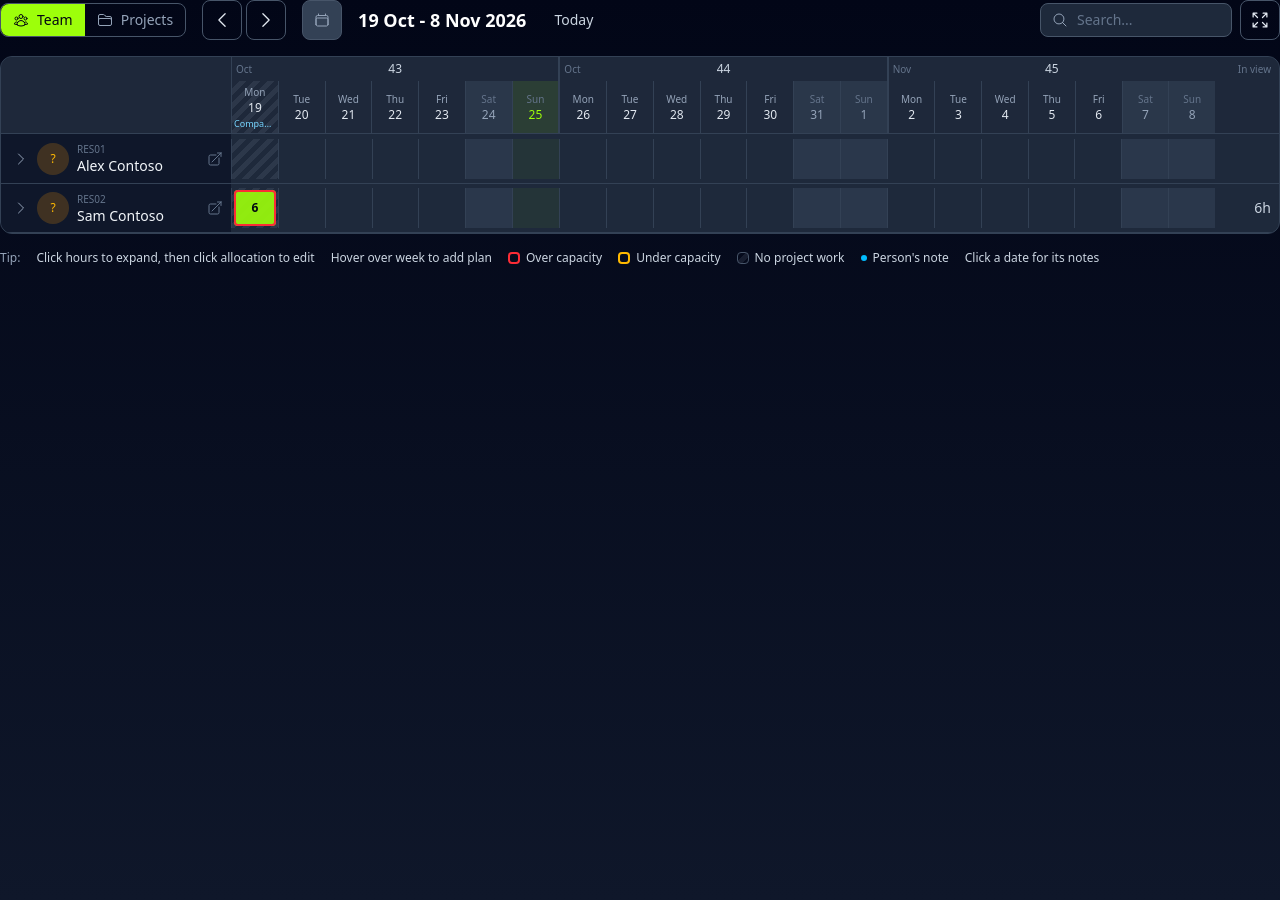
Test: PlanPanel day notes › hides the edit controls without permission to change plans
The width and height of the screenshot is (1280, 900).
Expected: the text "Company Off-Site" is shown, [232,118,278,129]
Click the button with aria-label ": 1 note, show" at (254, 107), box [231,81,278,133]
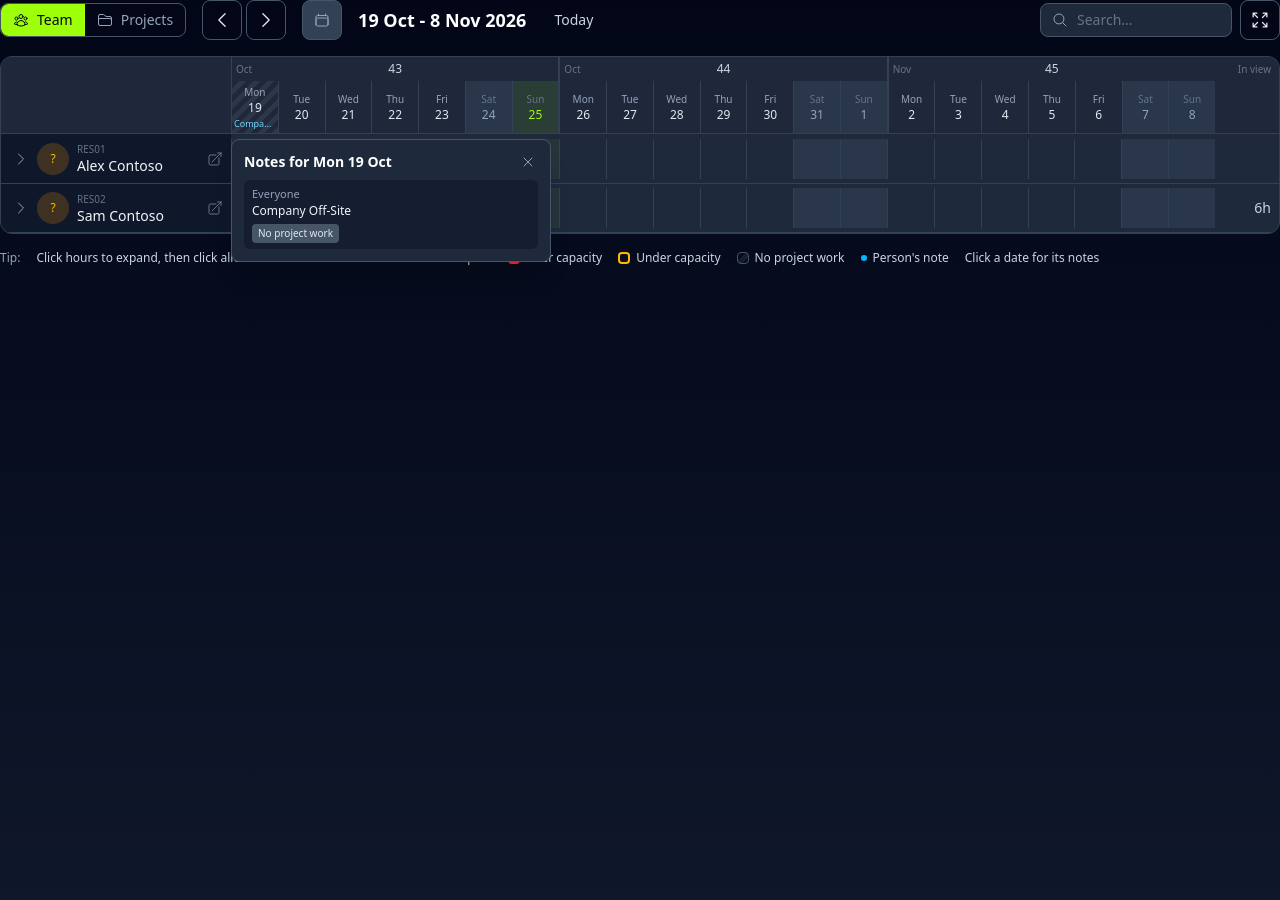
Result: the dialog shows "Company Off-Site" at [252,202,351,219]
